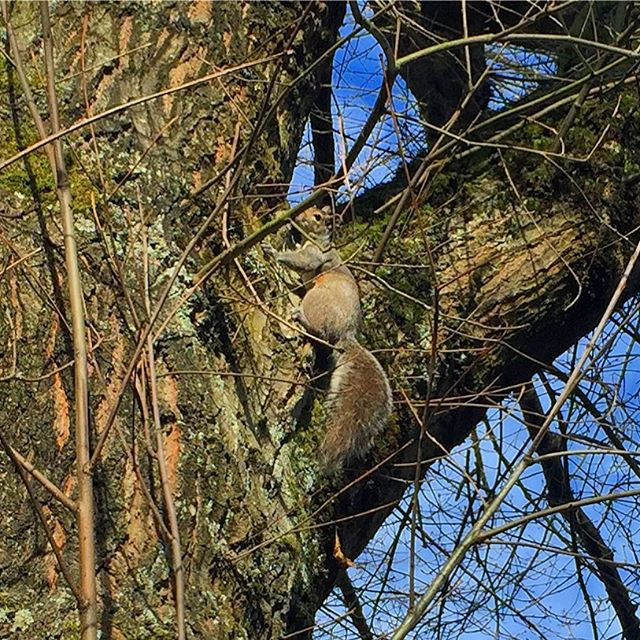animal: (274, 194, 403, 458)
tree: (7, 1, 640, 636)
